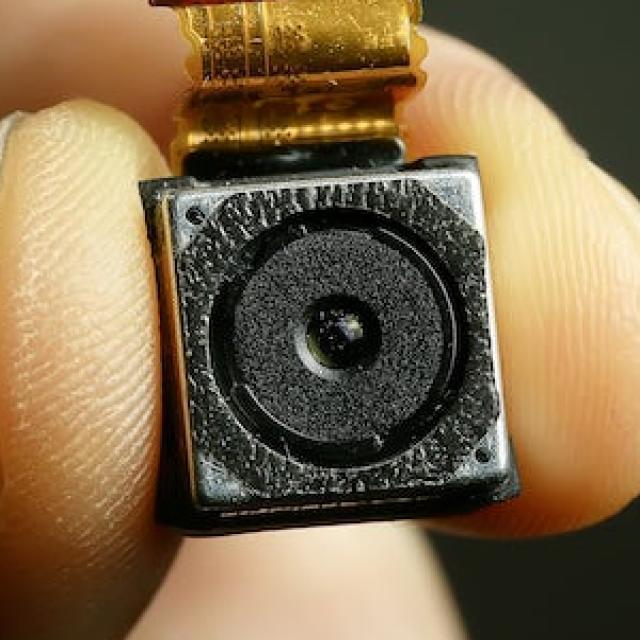hidden camera: (152, 182, 525, 495)
